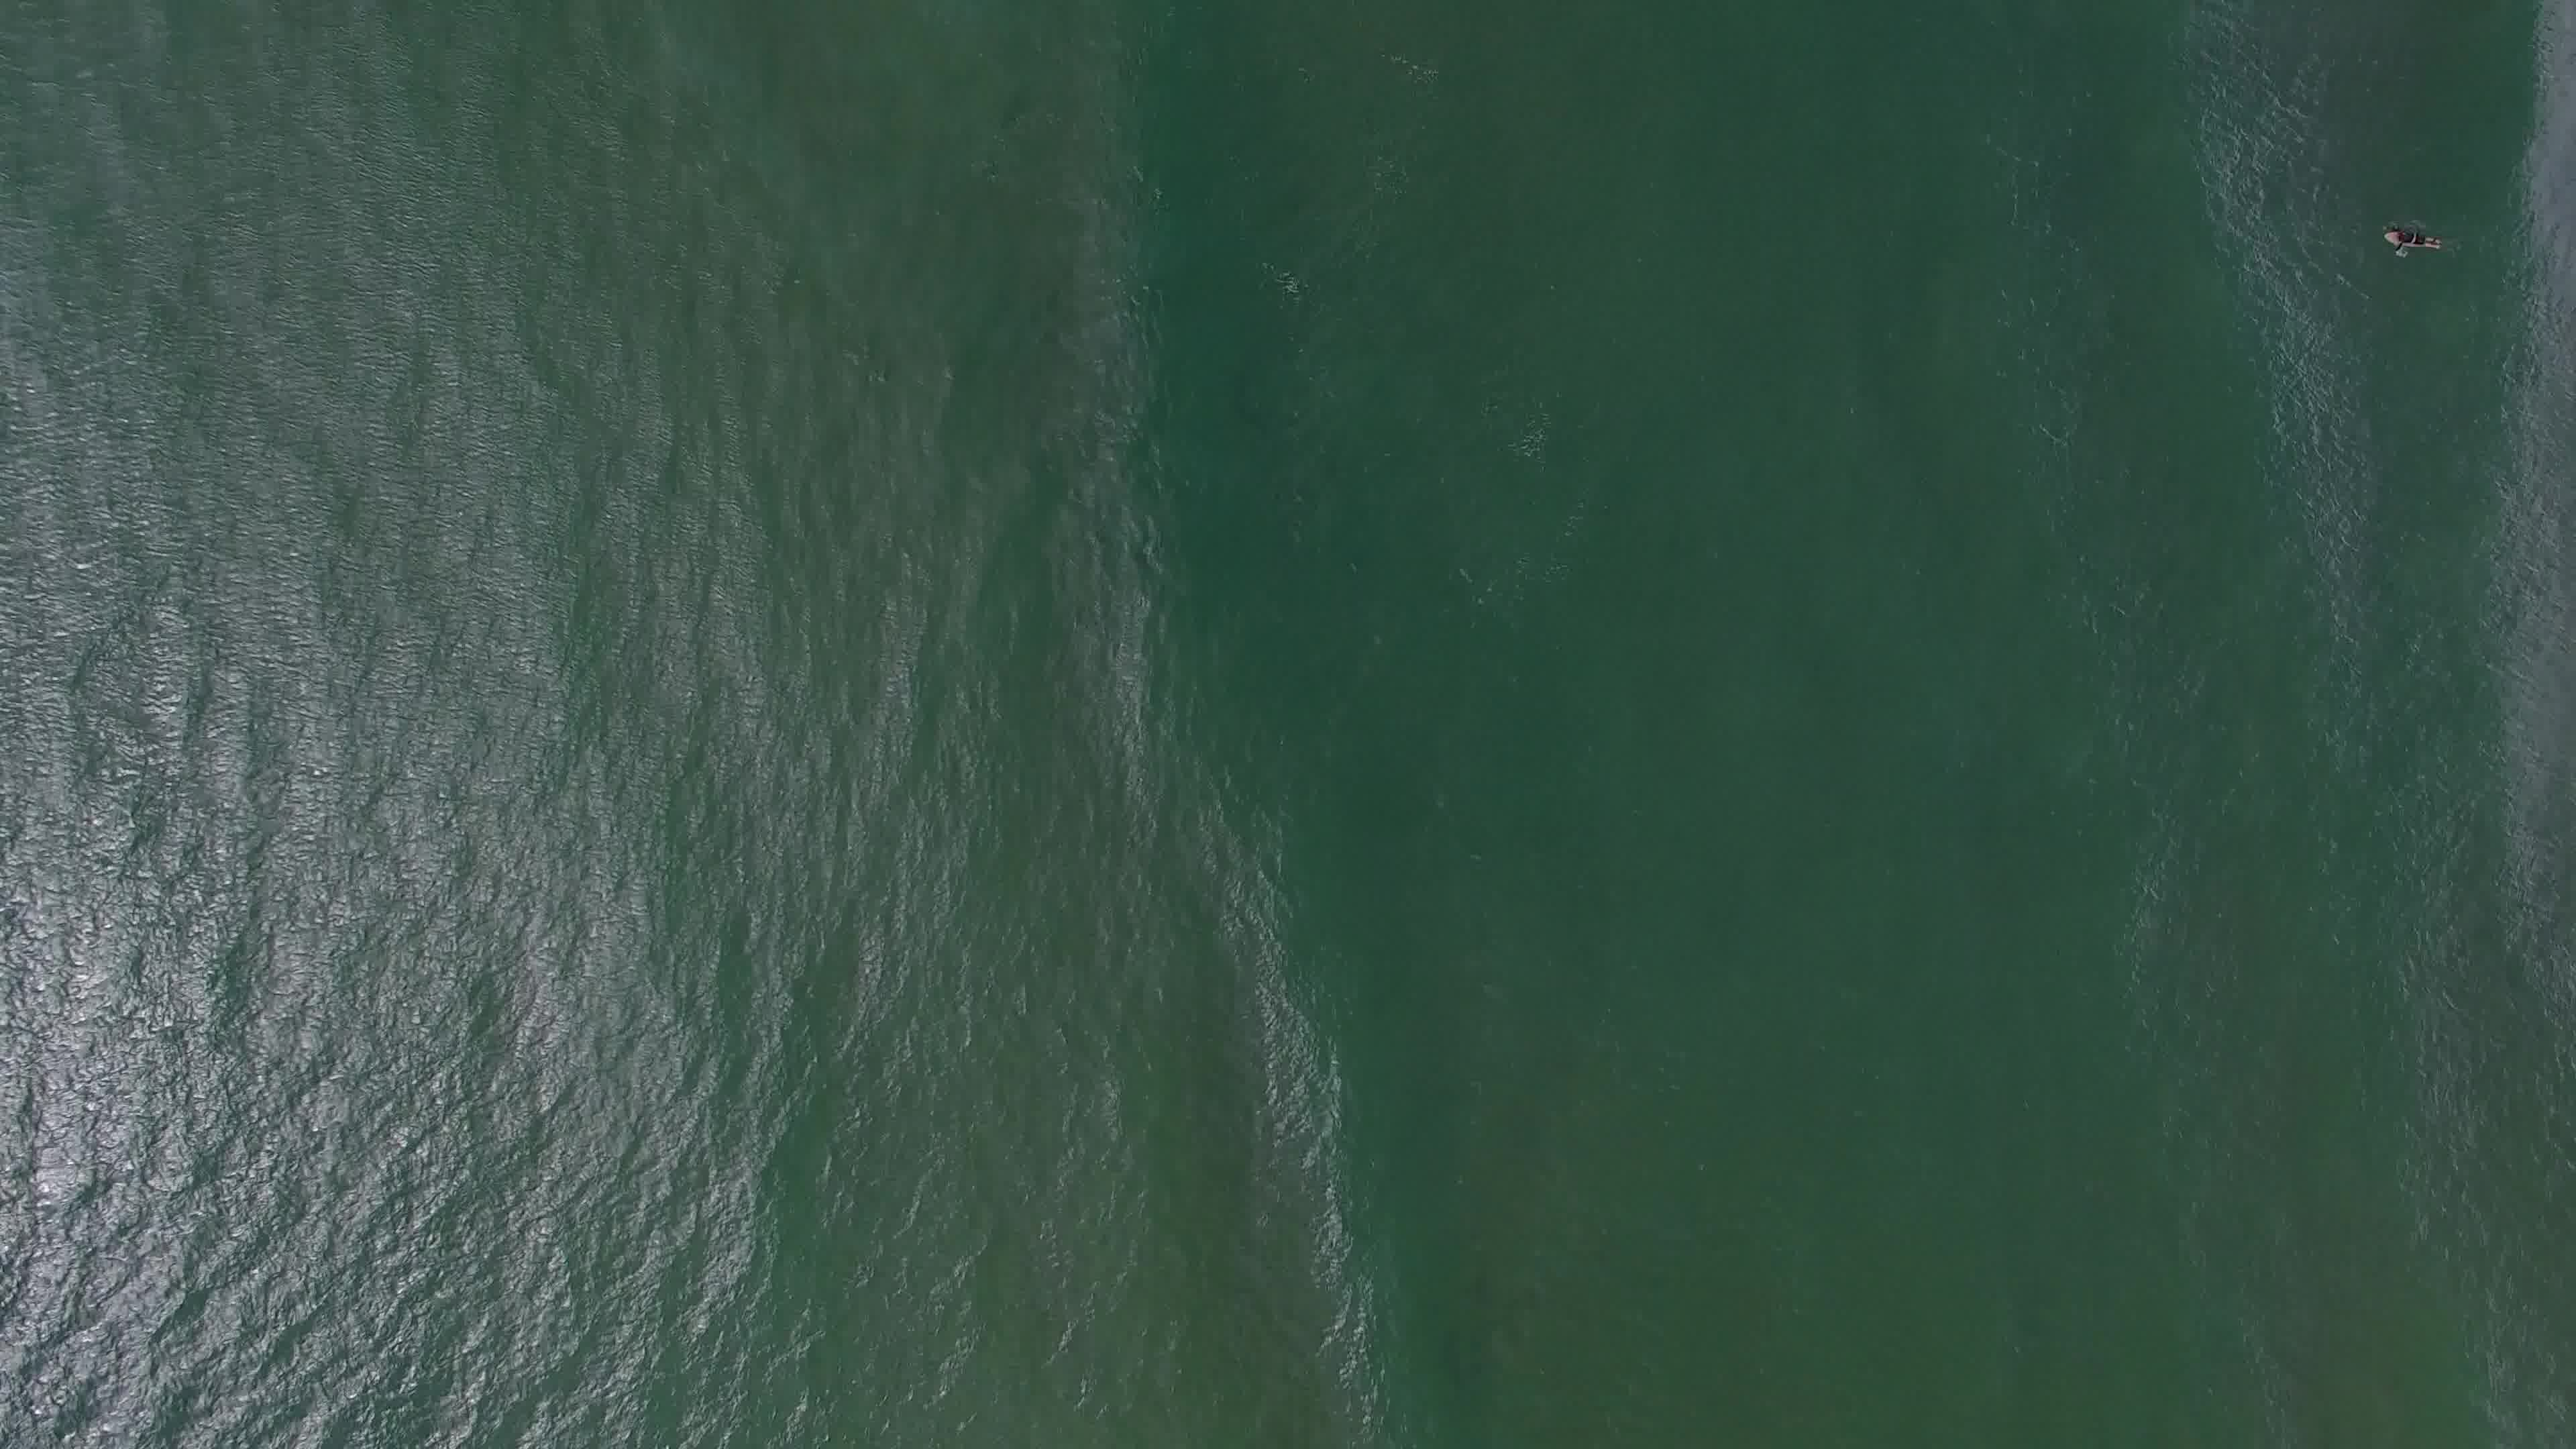surfer: (2376, 223, 2454, 262)
